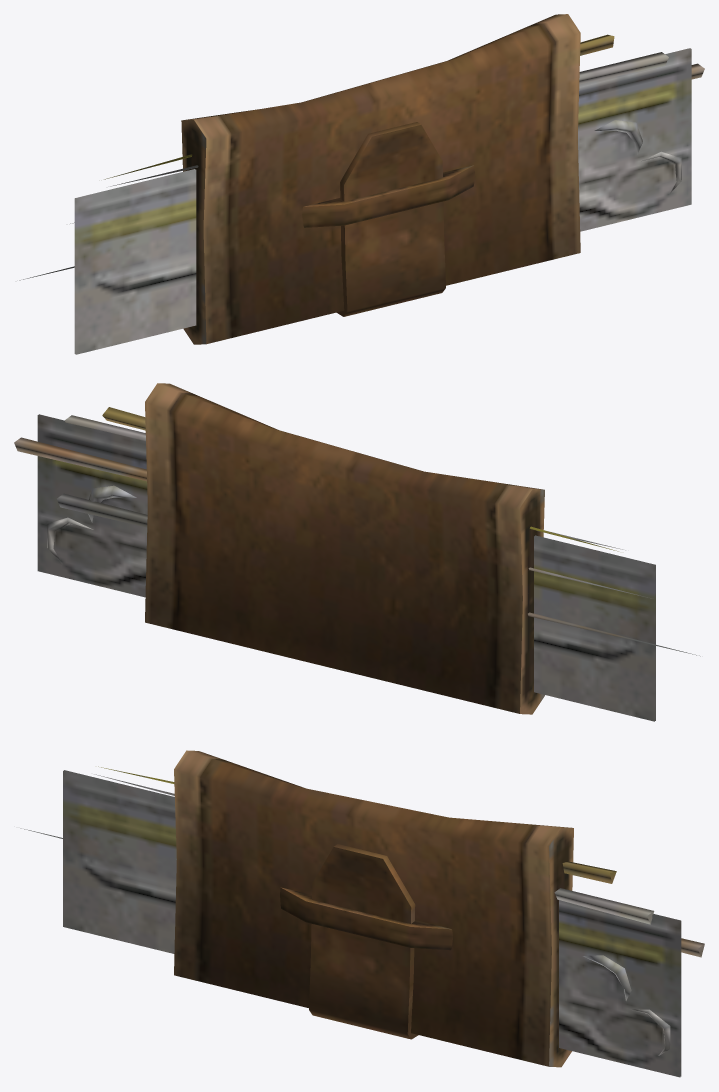
The model's file is eqp_repair_clothing_plain.fbx.
The picture shows the model from 3 angles, top to bottom: view 1: azimuth 30°, elevation 25°; view 2: azimuth 150°, elevation 25°; view 3: azimuth 330°, elevation 25°; orthographic projection.
Visible parts, largest first — view 1: mesh_node; view 2: mesh_node; view 3: mesh_node.
Boxes of the visible parts, x1,y1,x2,y2 form: mesh_node: [19, 14, 704, 354]; mesh_node: [14, 383, 700, 721]; mesh_node: [20, 750, 704, 1077].
Size of the model in its own units: 0.5516 by 0.1838 by 0.0392.
